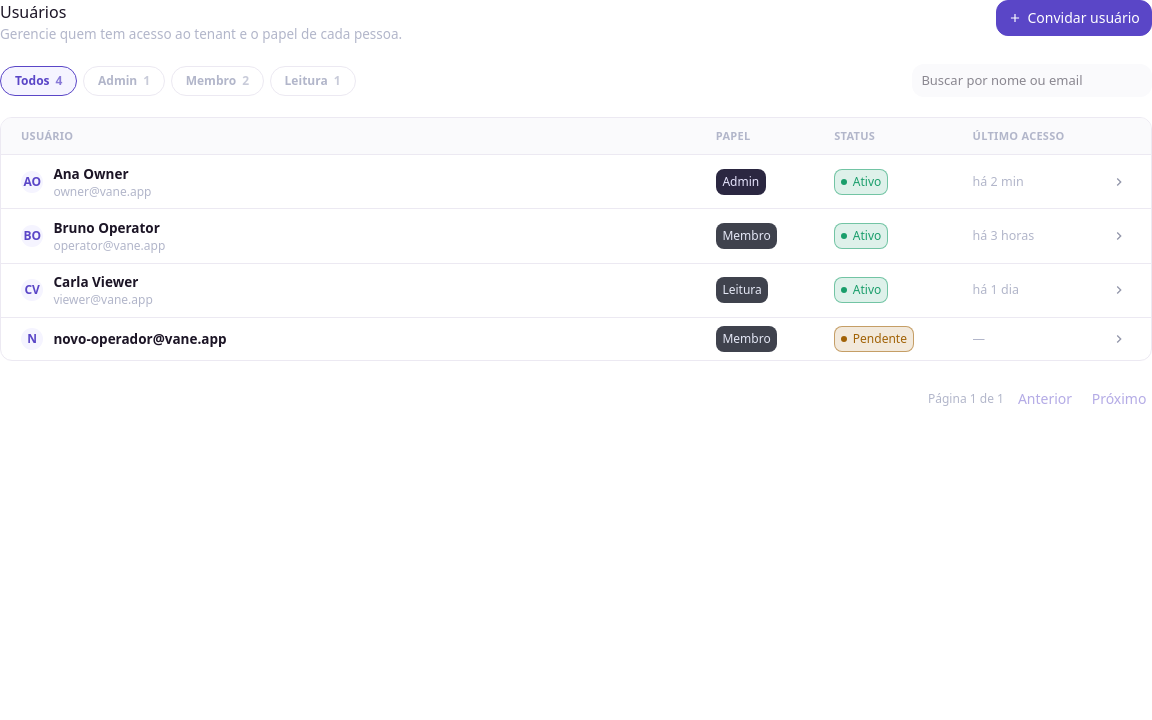
Scenario: AdminsPage › rejected role change (409, last owner) keeps the previous role and shows an error (USRPG-07)
Check: the text "owner@vane.app" is shown, box [53,184,152,200]
What coordinates should you click on to do the following:
click the text "owner@vane.app"
I would click on:
 (576, 182)
Its box is [1,155,1151,209].
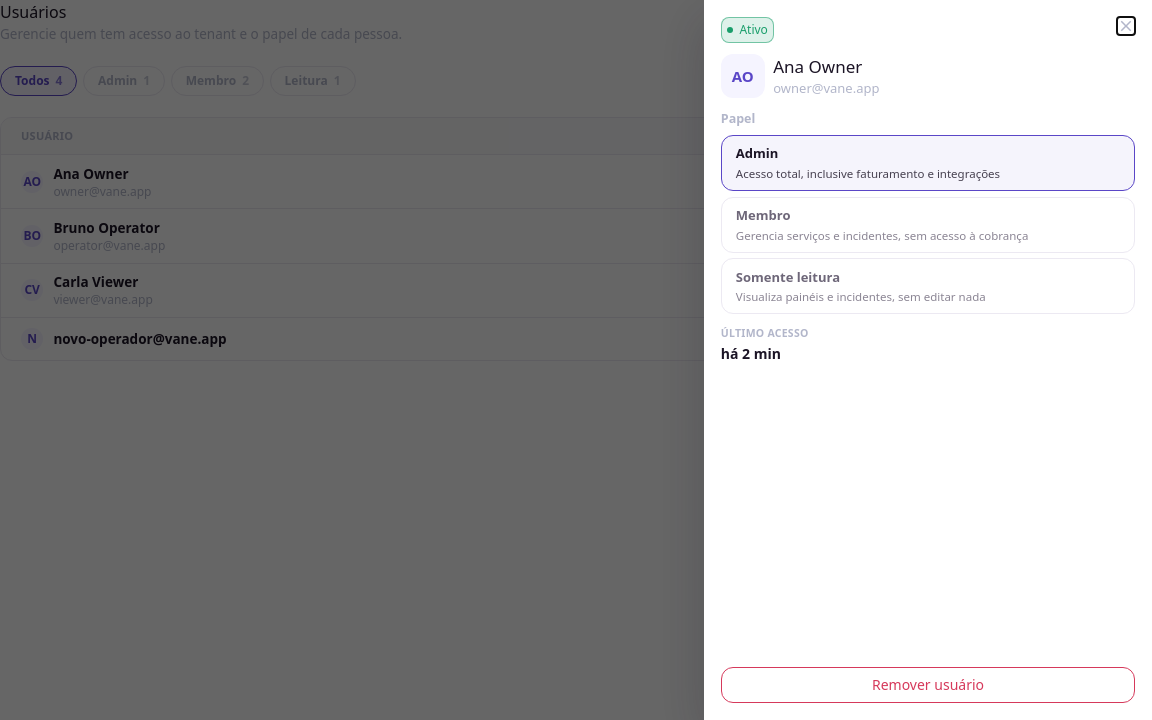
What coordinates should you click on to do the following:
click the radio button labelled "Membro Gerencia serviços e incidentes, sem acesso à cobrança"
I would click on:
 (928, 225)
Its box is [721,197,1135,253].
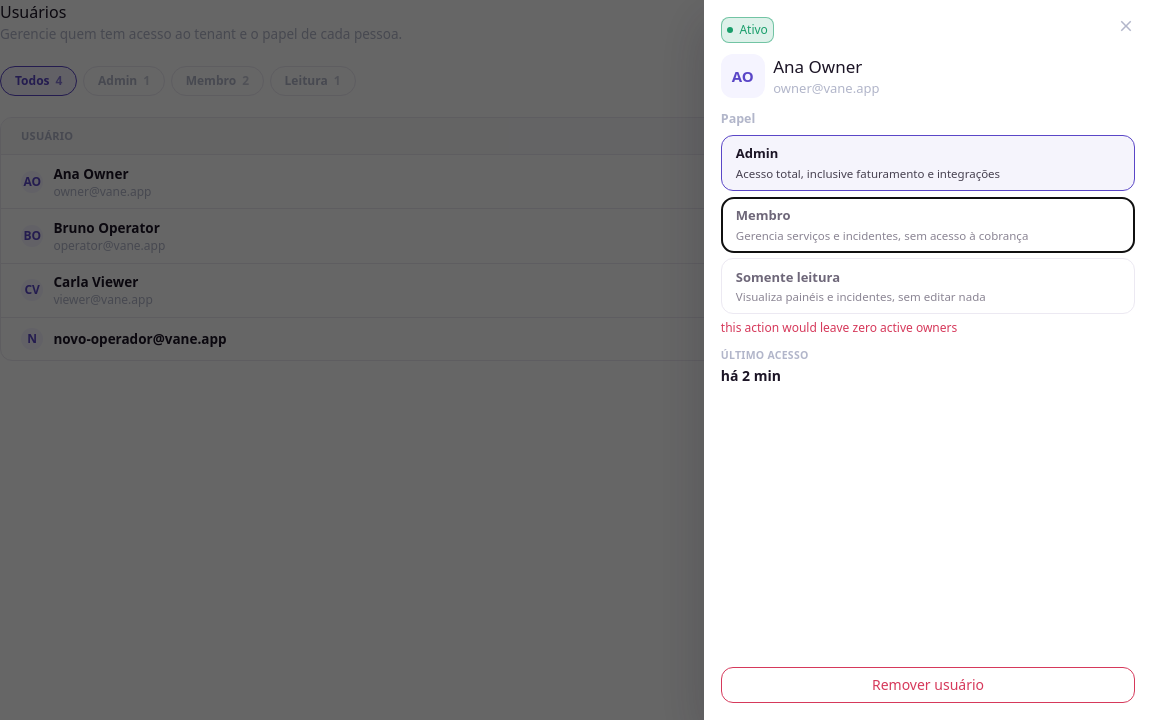
Check: the text "Admin" below "Status" is shown, box [722,173,759,190]
Check: the message shows "zero active owners", box [721,319,957,336]
